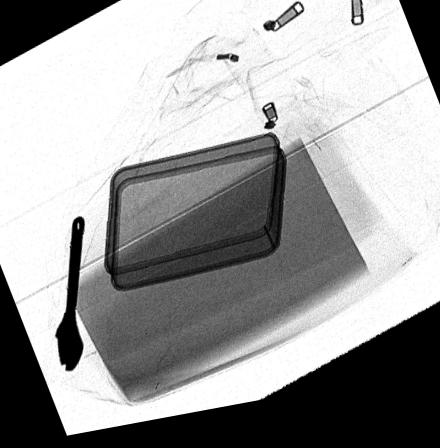Wrench: (51, 217, 88, 376)
